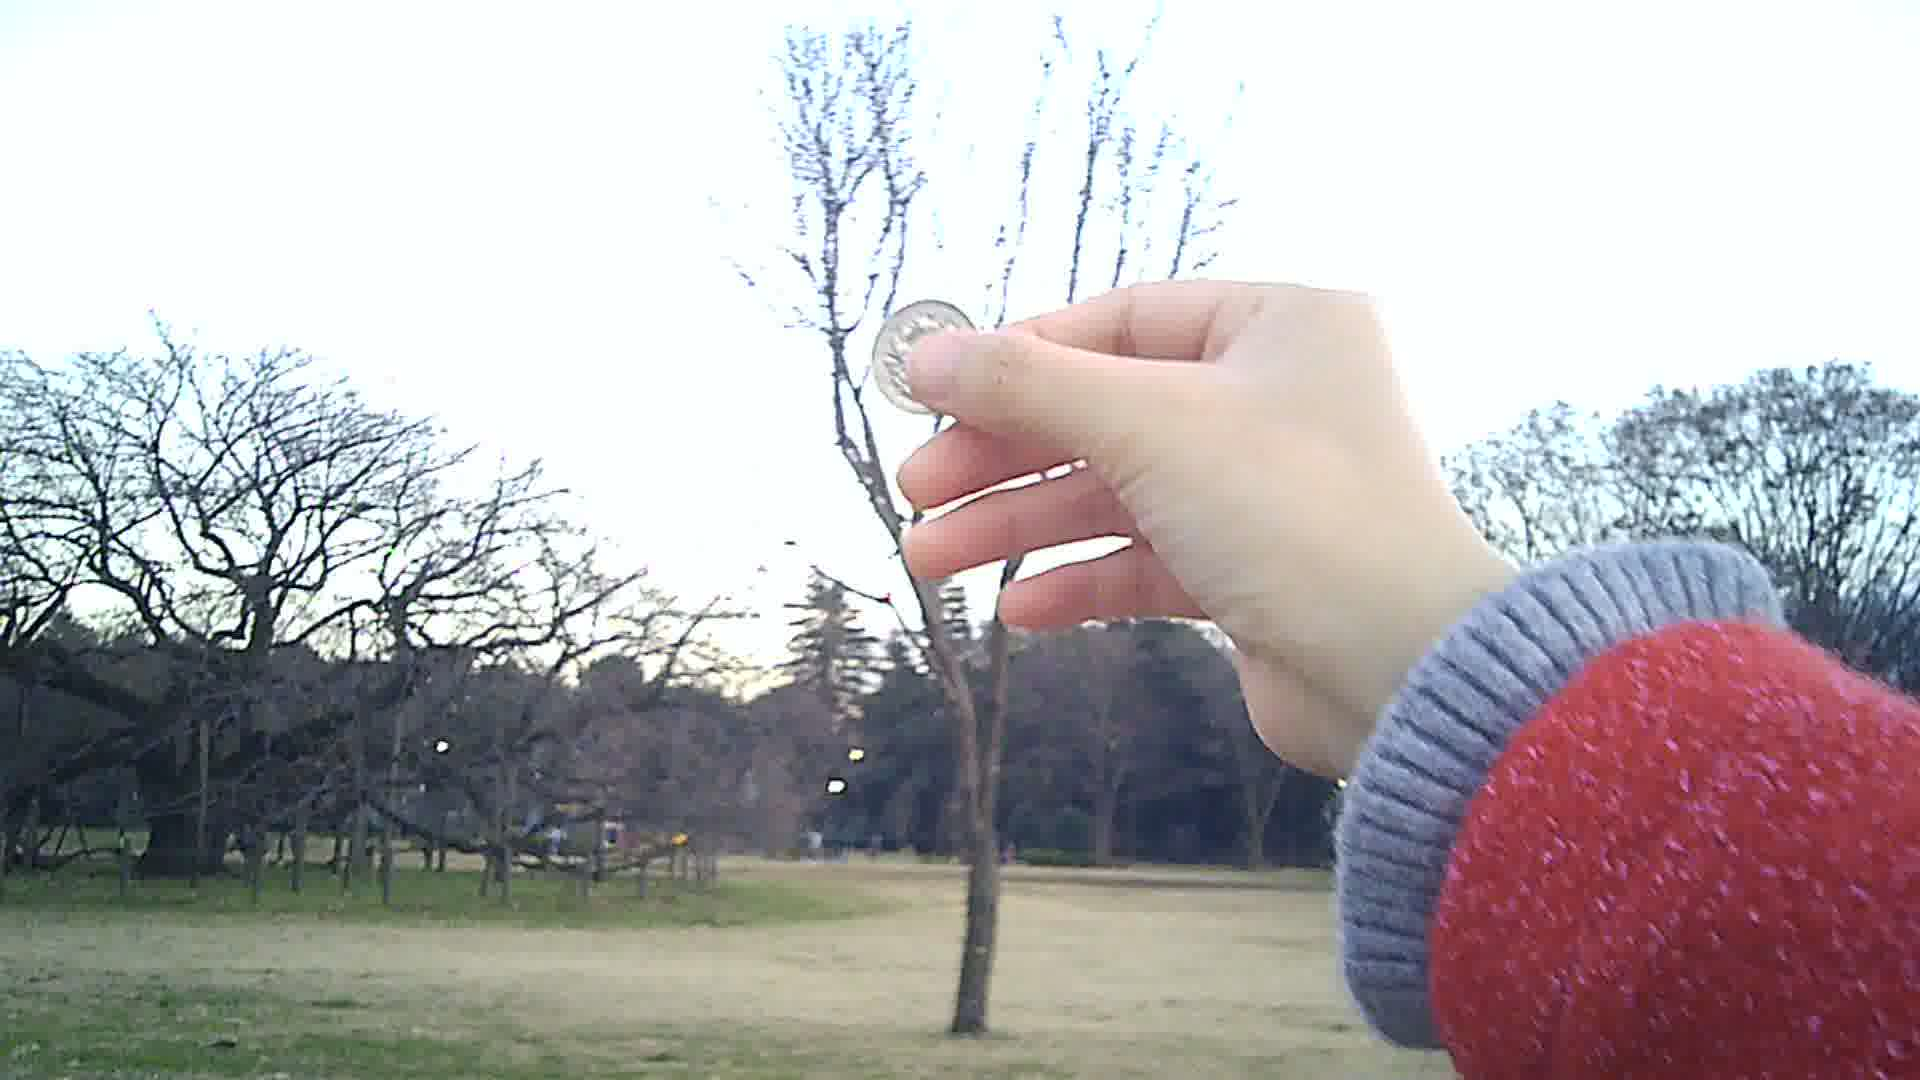100 Yen: (870, 302, 980, 413)
